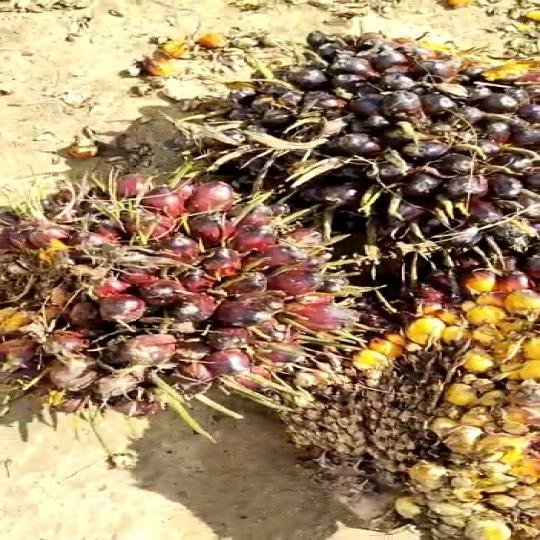kurang masak: (206, 29, 540, 290), (0, 173, 351, 408), (258, 269, 540, 540)
